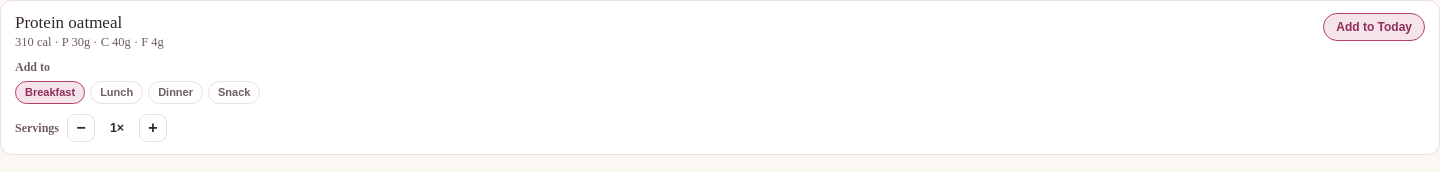
Test case: log save contract — My plan Add to Today › does not log twice while the first add is pending
The image size is (1440, 172).
Click the button "Add to Today": {"x": 1374, "y": 27} [1323,13,1425,41]
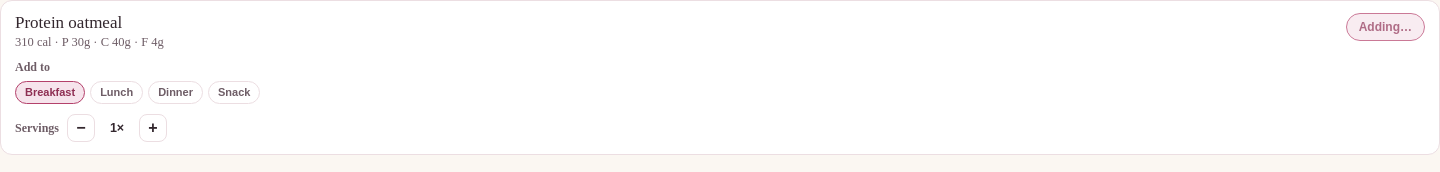
Click the button named "Add to Today": {"x": 1385, "y": 27} [1346,13,1425,41]
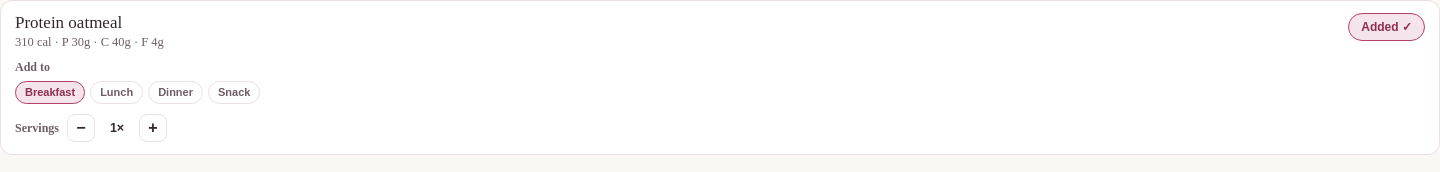
Expected: the button "Added ✓" is shown, [1348,13,1425,41]
